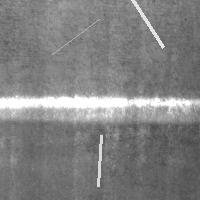scratches: (1, 94, 200, 122), (47, 14, 104, 59), (122, 0, 168, 52), (93, 130, 106, 191)
